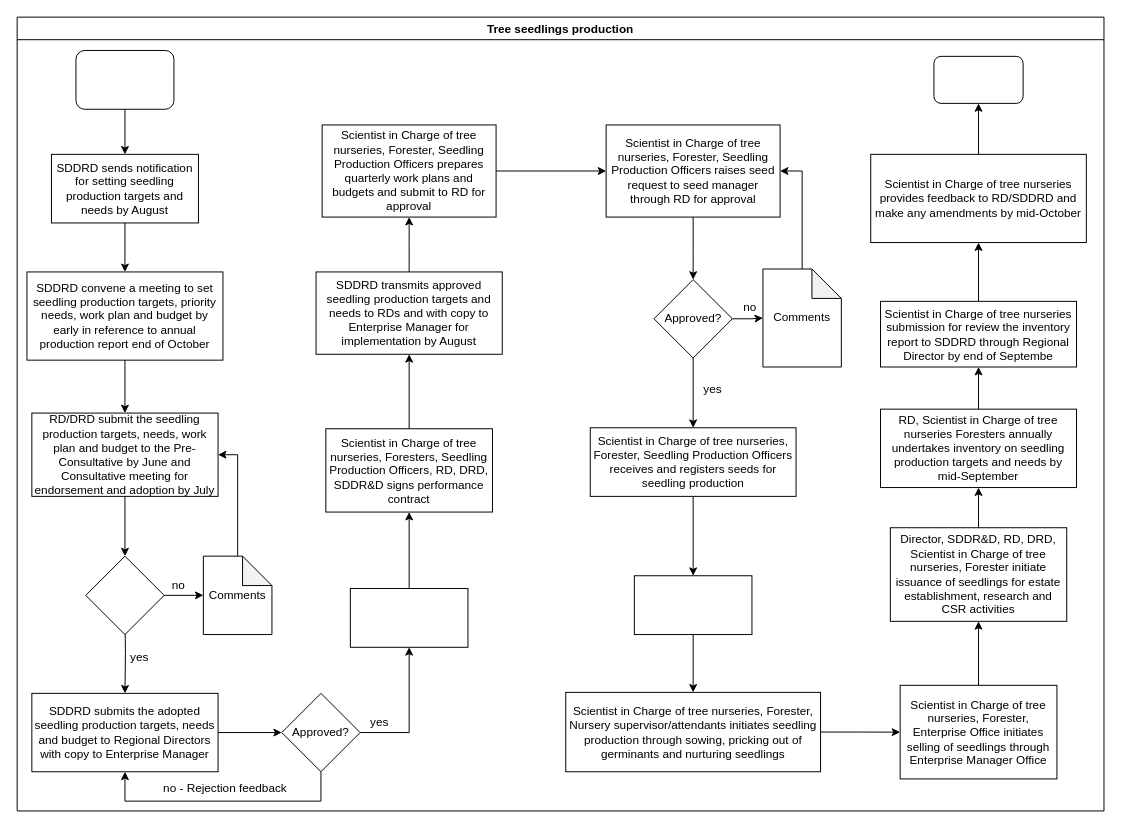
Some shapes in this 1121 by 828 pixel diagram are drawn without their labels. The shapes that lost their labels are listed below. From the top down, each one's box as (x1, y1, x2, y2) in pixels, then its label:
(75, 49, 174, 109): Start
(933, 55, 1023, 103): End
(85, 555, 164, 635): Endorsed?
(633, 575, 752, 635): RD/Accountant initiate payment of seeds supplied
(349, 588, 468, 647): SDDRD provides feedback from BoD to RD by July/August
